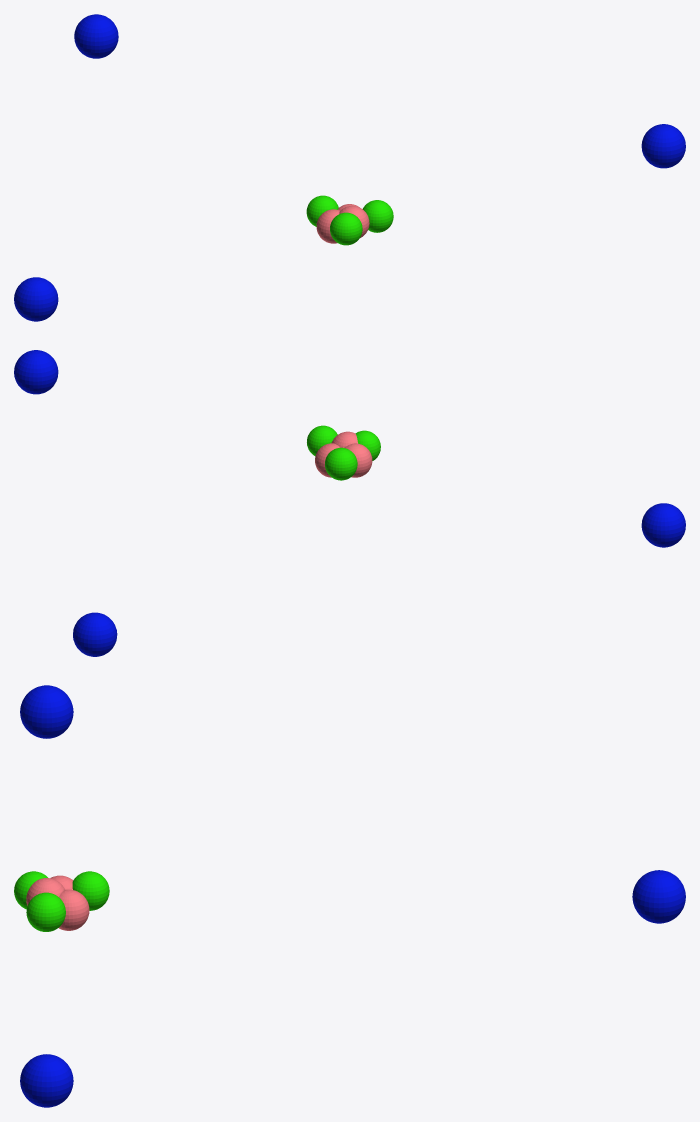
File: lithium.glb
3 renders of one model, top to bottom at view 1: azimuth 30°, elevation 25°; view 2: azimuth 150°, elevation 25°; view 3: azimuth 270°, elevation 25°, orthographic. The views are drawn at different scales.
Visible parts, largest first — view 1: Sphere.008, Sphere.006, Sphere.007, Sphere, Sphere.005, Sphere.004, Sphere.001; view 2: Sphere.006, Sphere.007, Sphere.008, Sphere.004, Sphere.005, Sphere.001; view 3: Sphere.006, Sphere.007, Sphere.008, Sphere.005, Sphere.004, Sphere.002.
Boxes of the visible parts, box(x1,y1,x2,y2) form: Sphere.008: box(74, 14, 118, 58); Sphere.006: box(641, 124, 685, 168); Sphere.007: box(14, 277, 58, 321); Sphere: box(330, 212, 362, 245); Sphere.005: box(363, 200, 393, 232); Sphere.004: box(306, 195, 338, 226); Sphere.001: box(316, 209, 339, 243); Sphere.006: box(14, 350, 58, 394); Sphere.007: box(641, 503, 685, 547); Sphere.008: box(73, 612, 117, 656); Sphere.004: box(325, 447, 357, 480); Sphere.005: box(307, 425, 337, 455); Sphere.001: box(344, 443, 372, 477); Sphere.006: box(20, 1054, 73, 1107); Sphere.007: box(20, 685, 73, 738); Sphere.008: box(632, 870, 685, 923); Sphere.005: box(26, 892, 65, 931); Sphere.004: box(72, 871, 109, 910); Sphere.002: box(59, 889, 89, 930).
Size of the model in its own units: 2.45 by 0.151 by 1.78.
